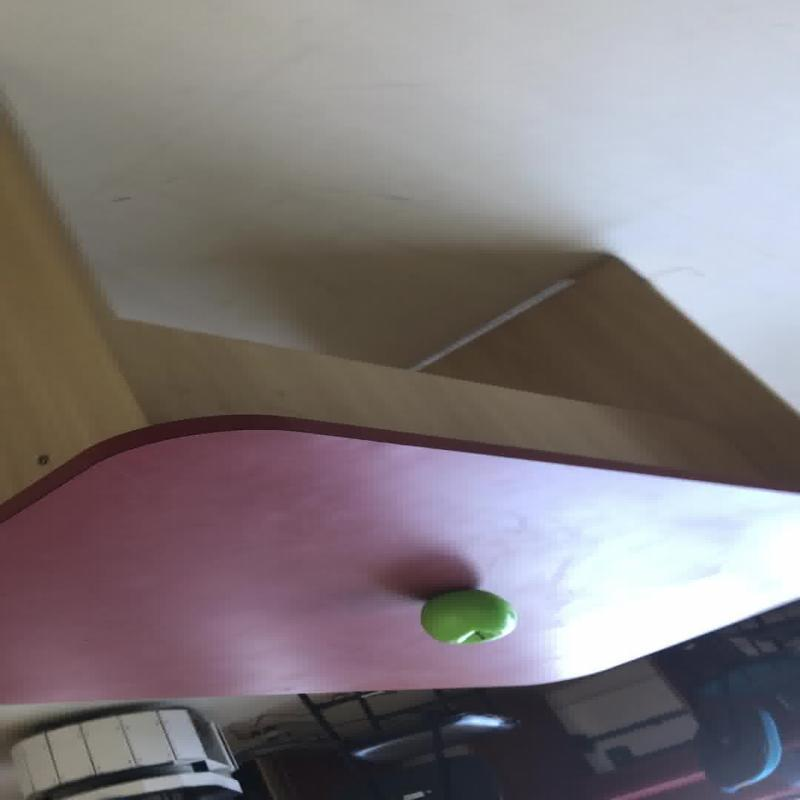apple: (418, 588, 517, 644)
